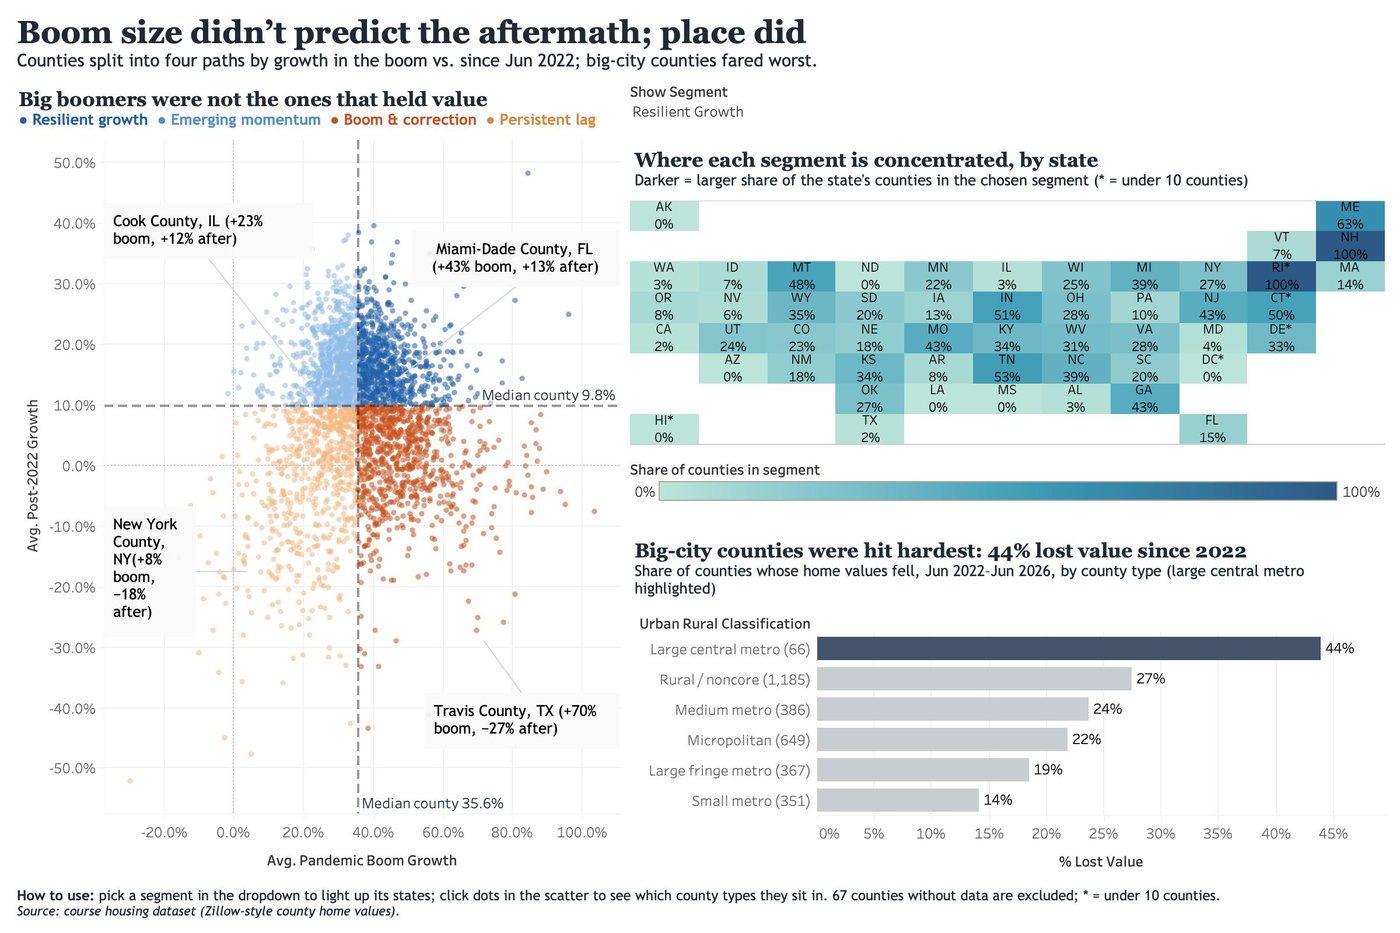

What the dashboard file says about the page in this screenshot:
{"tool":"tableau","page":{"name":"DB2 - Market Divergence","canvas":[1200,800],"ordinal":1},"visuals":[{"type":"title","box":[8,8,1184,57]},{"type":"worksheet","title":"04 Market Resilience Quadrant (2)","mark":"Circle","rows":["Calculation_6313575930294290"],"cols":["Calculation_6313575930015760"],"box":[8,65,528,692]},{"type":"parameter","param":"[Parameters].[Parameter 1]","box":[536,65,656,52]},{"type":"worksheet","title":"05 Segment Tile Map","mark":"Square","rows":["Calculation_9120000000000004"],"cols":["Calculation_9120000000000003"],"box":[536,117,656,269.2]},{"type":"legend","title":"05 Segment Tile Map","param":"[federated.0duybsb164gni9137orwr1ndk0vf].[usr:Calculation_9120000000000005:qk]","box":[536,386.2,656,65]},{"type":"worksheet","title":"07 Lost Value by County Type","mark":"Bar","rows":["urban_rural_classification"],"cols":["Calculation_9120000000000007"],"box":[536,451.2,656,305.7]},{"type":"text","box":[8,757,1184,35]}]}

Visuals, with their boxes in screenshot pixels (x1, y1, x2, y2), scaled from the page's 1200x800 canvas onto the 1400x933 screenshot:
title: bbox(9, 9, 1391, 76)
"04 Market Resilience Quadrant (2)" worksheet (Circle marks): bbox(9, 76, 625, 883)
parameter: bbox(625, 76, 1391, 136)
"05 Segment Tile Map" worksheet (Square marks): bbox(625, 136, 1391, 450)
"05 Segment Tile Map" legend: bbox(625, 450, 1391, 526)
"07 Lost Value by County Type" worksheet (Bar marks): bbox(625, 526, 1391, 883)
text: bbox(9, 883, 1391, 924)
